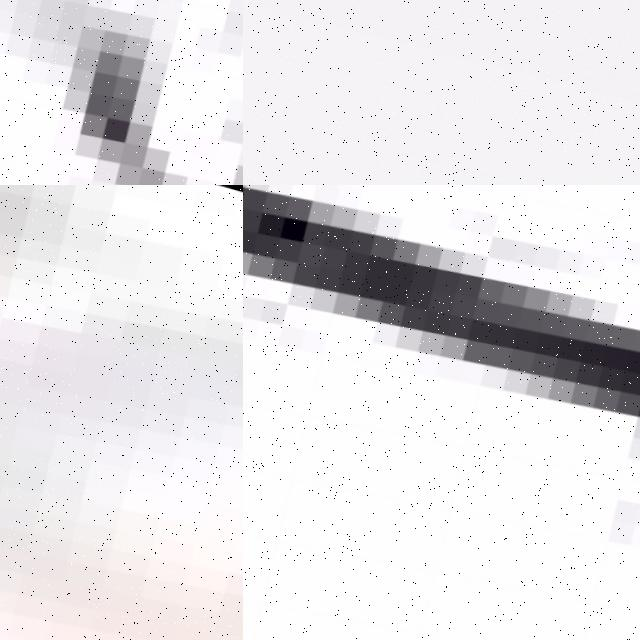0: (243, 185, 640, 640), (0, 0, 243, 185)
drone: (0, 185, 243, 640)
